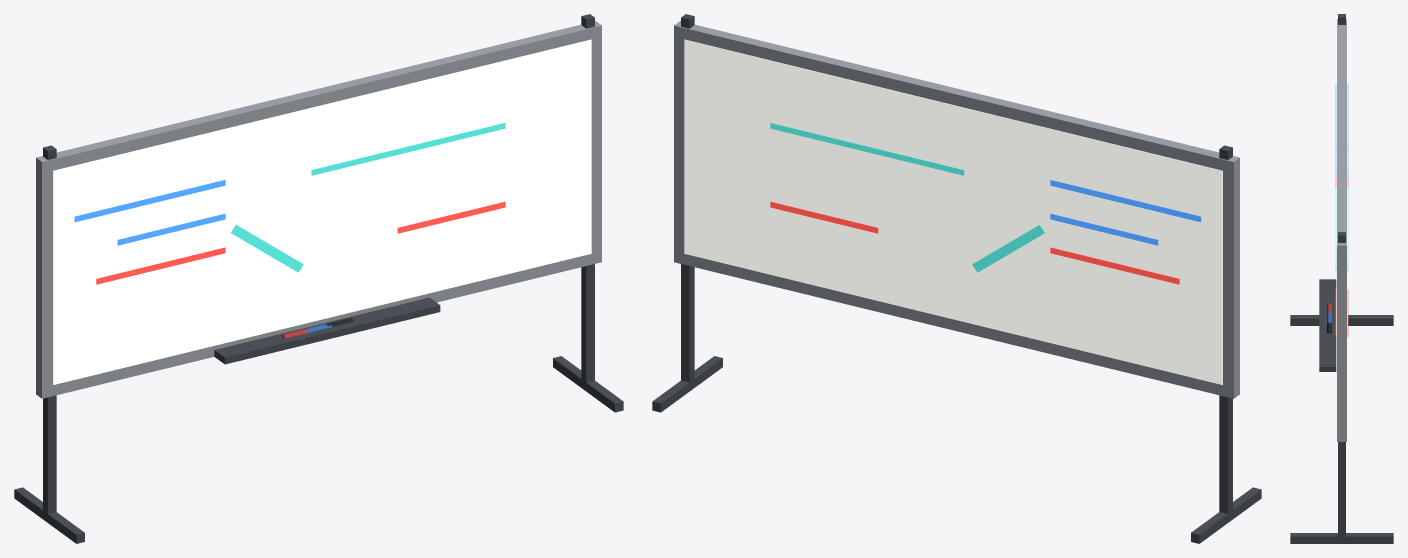
File: whiteboard.glb
The picture shows the model from 3 angles, left to right: view 1: azimuth 30°, elevation 25°; view 2: azimuth 150°, elevation 25°; view 3: azimuth 270°, elevation 25°; orthographic projection. The views are drawn at different scales.
Visible parts, largest first — view 1: whiteboard_mesh; view 2: whiteboard_mesh; view 3: whiteboard_mesh.
Boxes of the visible parts, x1,y1,x2,y2 form: whiteboard_mesh: [14, 14, 623, 543]; whiteboard_mesh: [652, 14, 1261, 543]; whiteboard_mesh: [1290, 14, 1393, 543].
Bounding box in the file's own units: 2.6 × 1.65 × 0.5.
